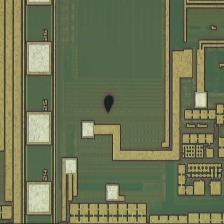PARTICLE: (102, 91, 119, 117)
